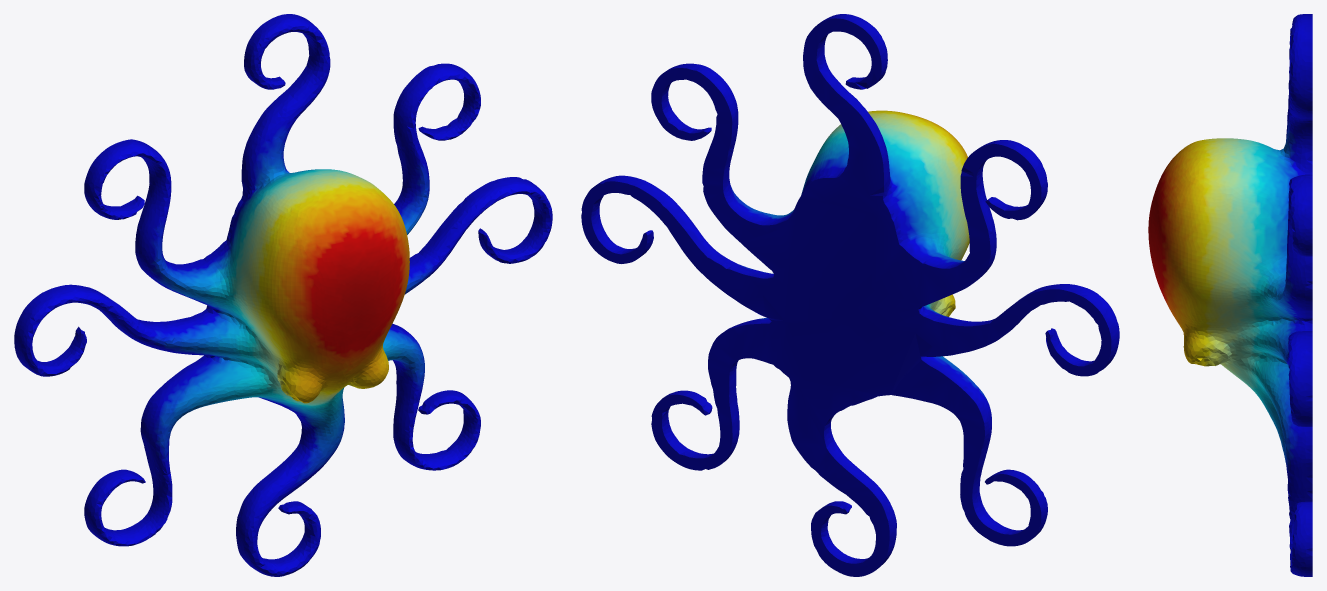
The model's file is octopus_fem.glb.
3 views of the same model, side by side, from view 1: azimuth 30°, elevation 25°; view 2: azimuth 150°, elevation 25°; view 3: azimuth 270°, elevation 25° (orthographic).
Parts seen in each view (by area): view 1: octopus_smooth.obj; view 2: octopus_smooth.obj; view 3: octopus_smooth.obj.
Boxes of the visible parts, x1,y1,x2,y2 form: octopus_smooth.obj: [14, 14, 552, 576]; octopus_smooth.obj: [581, 14, 1119, 576]; octopus_smooth.obj: [1148, 14, 1312, 576].
Size of the model in its own units: 1.92 by 1.93 by 0.5229.
